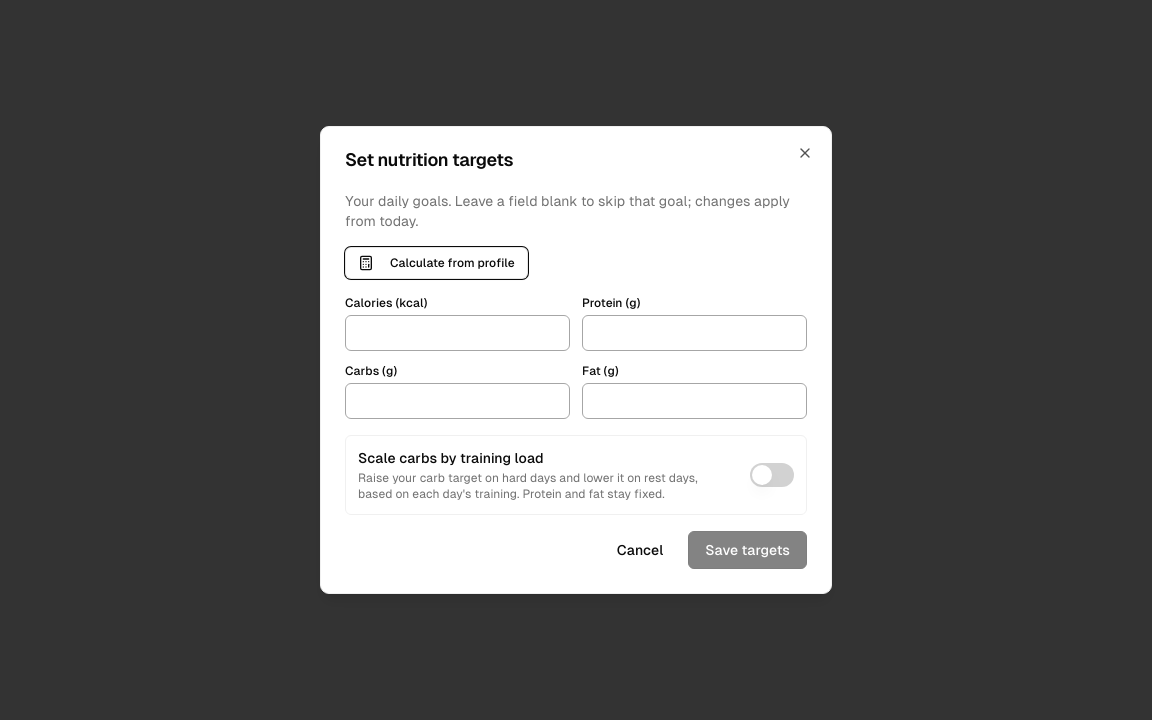
Test: TargetsDialog › Calculate from profile › applies onboarding's default rate to a lose goal with no rate
Click the button with test id "button-calculate-targets".
click(436, 263)  # box [345,247,528,279]
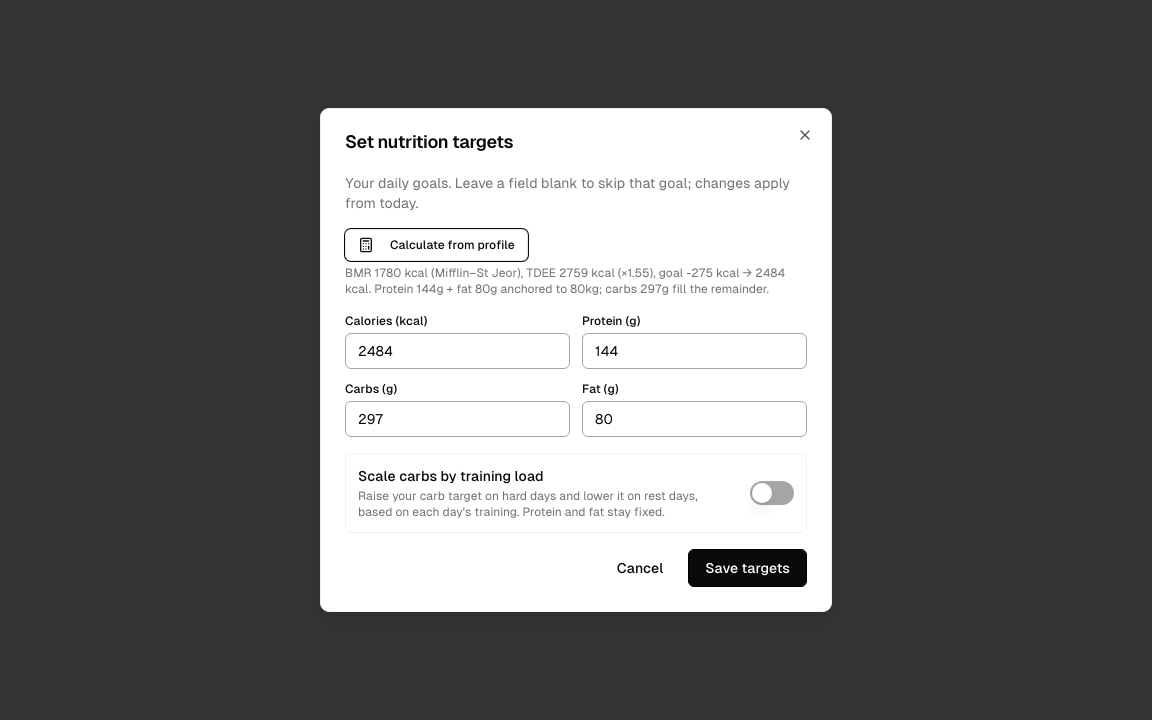
Now the number field with test id "input-target-calories" holds "2484", box [345,333,570,369]
